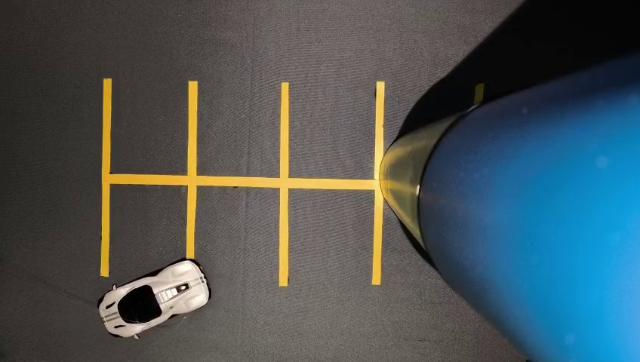toy_car: (82, 246, 248, 356)
